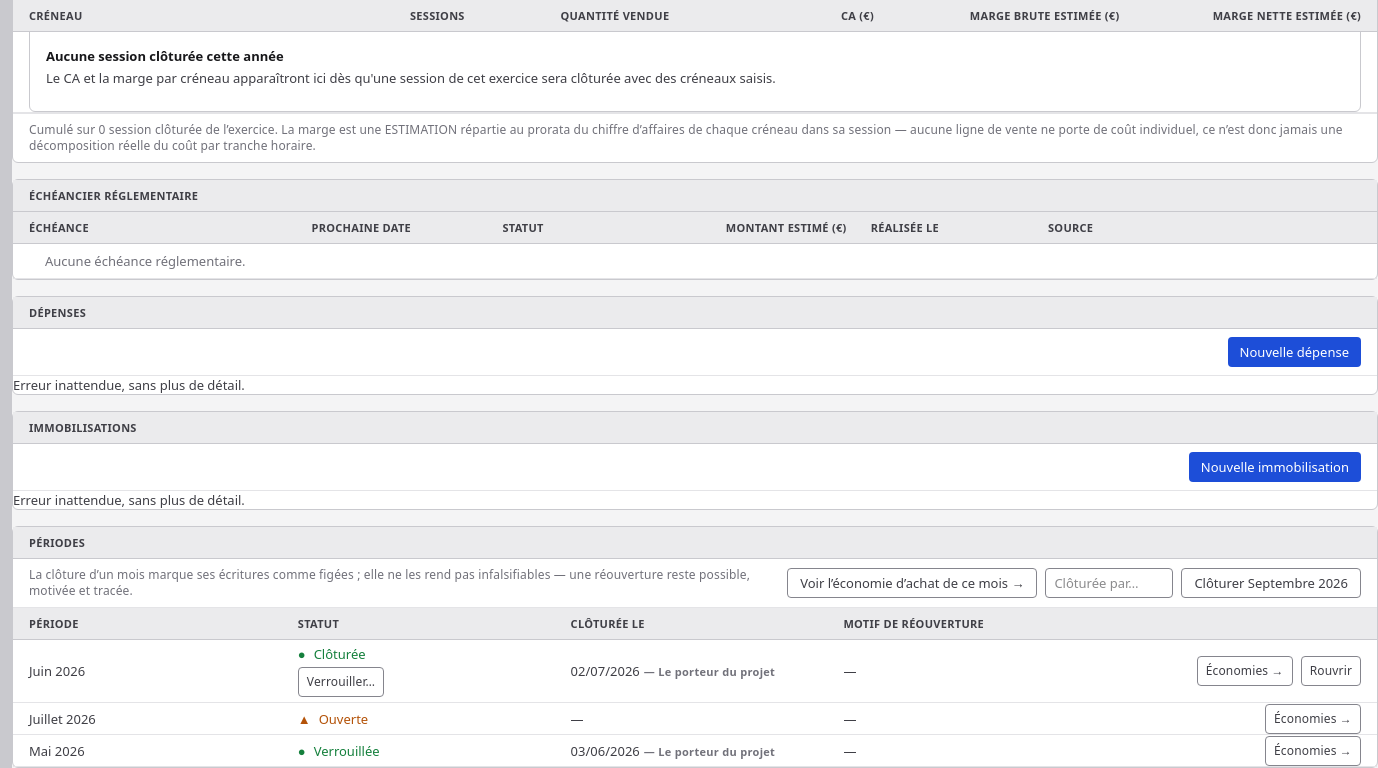
Test: Comptabilité — le verrou définitif ne se pose jamais par accident › tant que l’impact charge : ni recopie, ni bouton final — un décompte inconnu ne propose rien
(page scrolled)
What coordinates should you click on to do the following:
click the button "Verrouiller…"
I would click on:
 (341, 682)
Its box is [298,667,384,697].
(page scrolled)
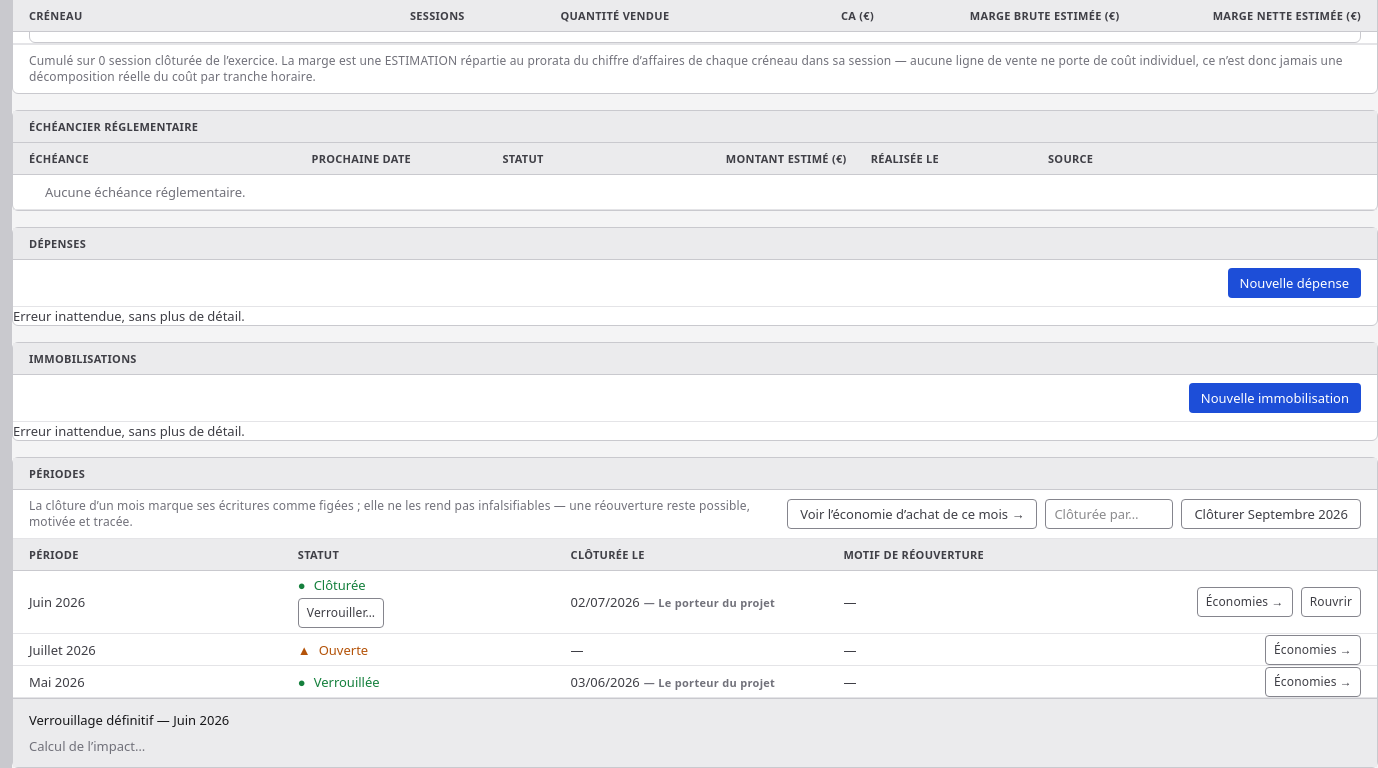
Now the text "Verrouillage définitif — Juin 2026" is shown, box [29,711,229,729]
Now the text "Calcul de l’impact…" is shown, box [29,737,145,755]
